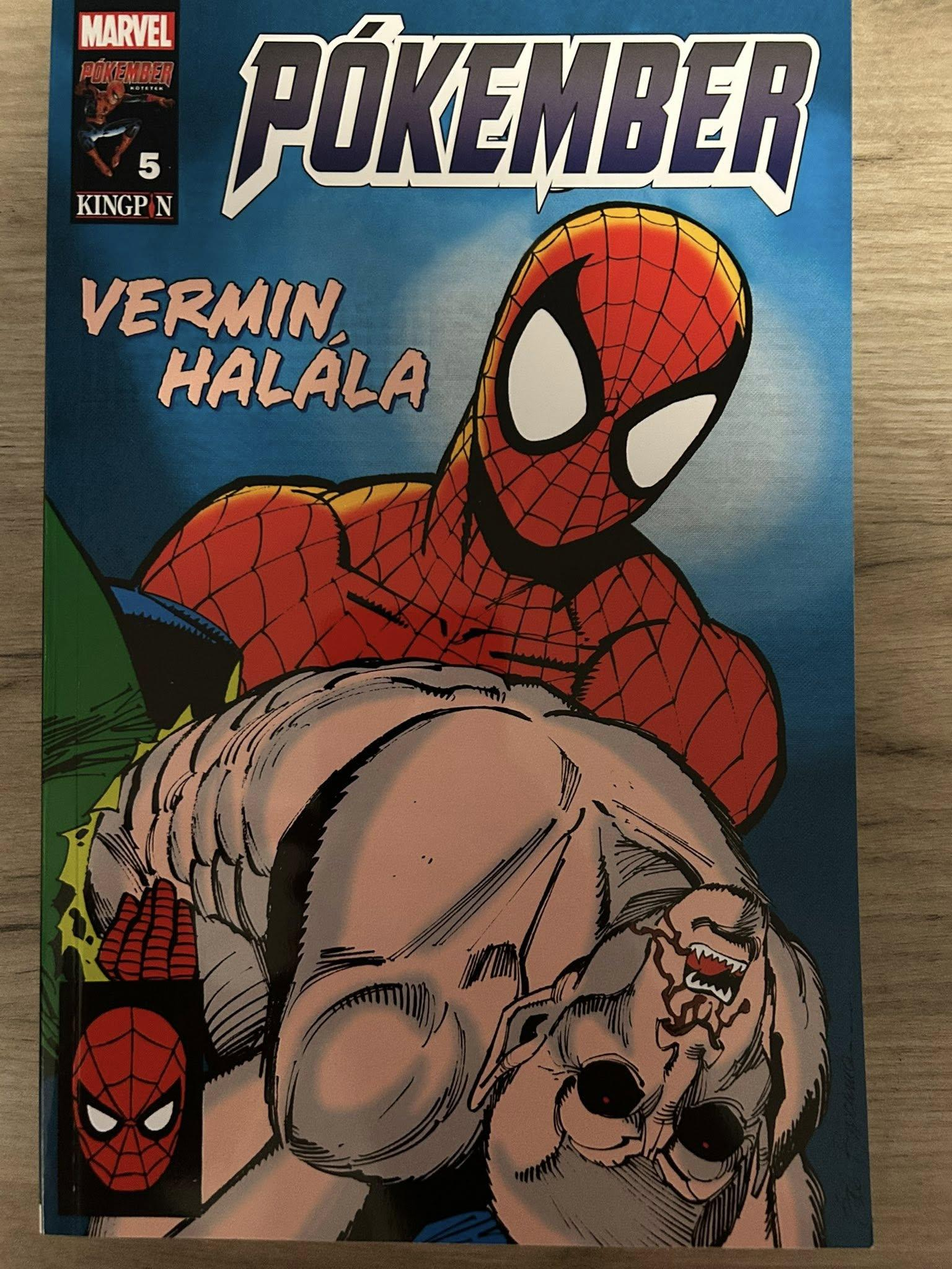comic: (42, 0, 870, 1247)
